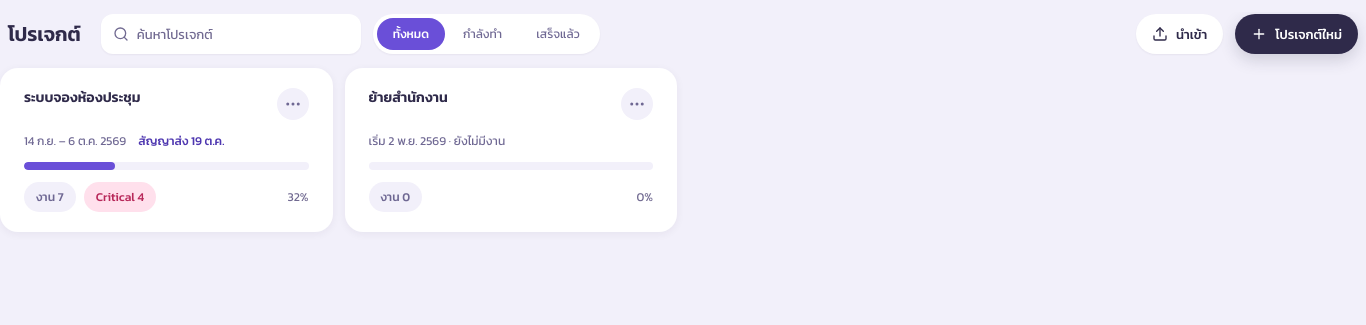
Scenario: ProjectsPage › filters by search and status
Type "ย้าย" into the field labelled "ค้นหาโปรเจกต์" at (231, 34), box [101,14,361,54]
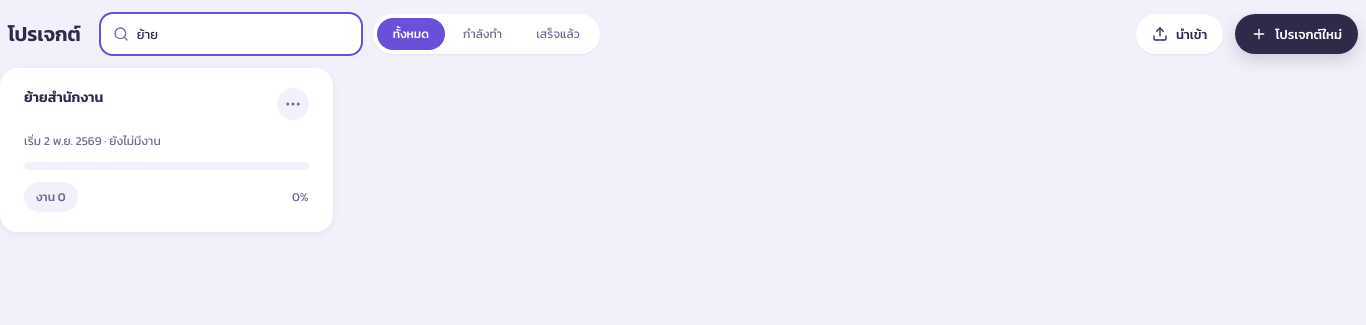
Expected: the number of elements with test id "project-card" is 1, [0,68,332,232]
Clear the field named "ค้นหาโปรเจกต์" at (231, 34), box [101,14,361,54]
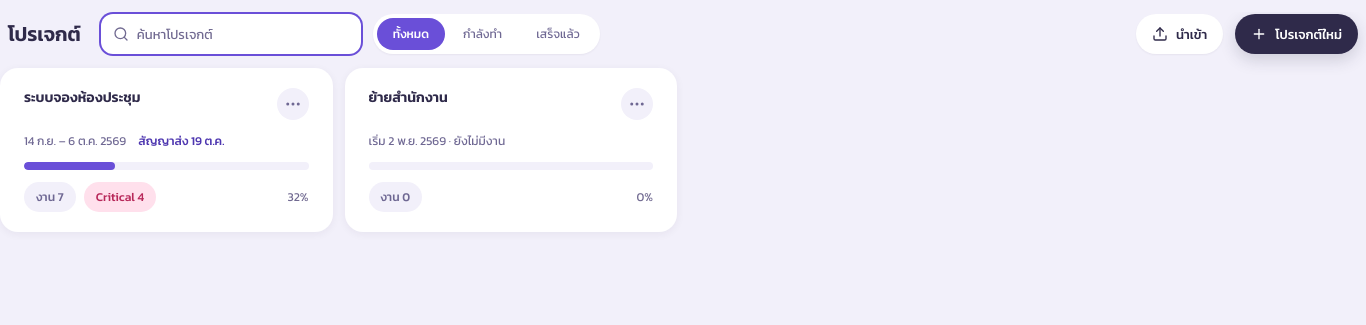
Click the radio button labelled "เสร็จแล้ว" at (558, 34), box [520,18,596,50]
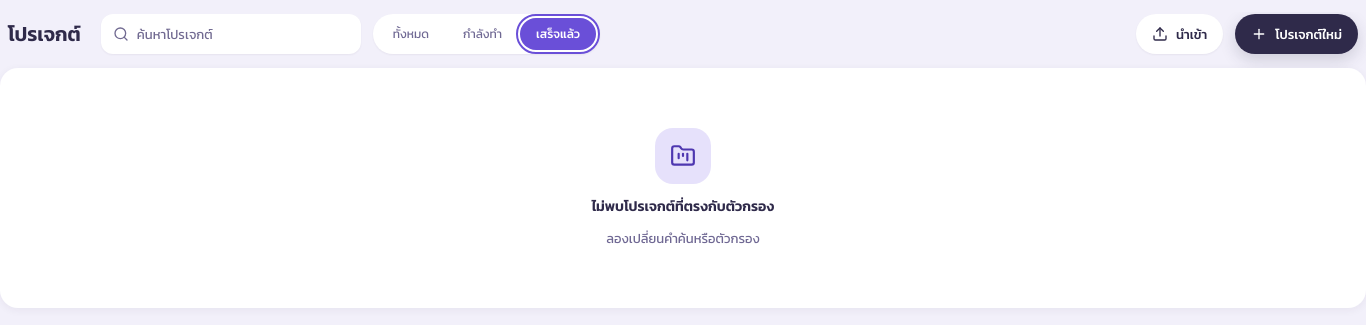
Expected: the text "ไม่พบโปรเจกต์ที่ตรงกับตัวกรอง" is shown, [592,196,774,217]
